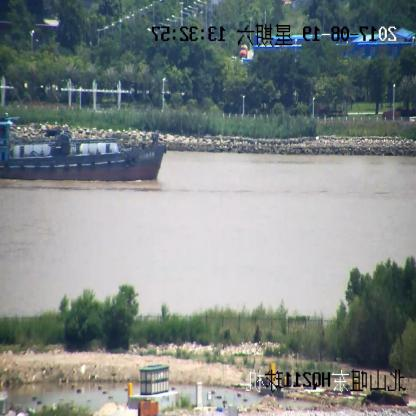Bulk Carrier: (0, 117, 167, 181)
